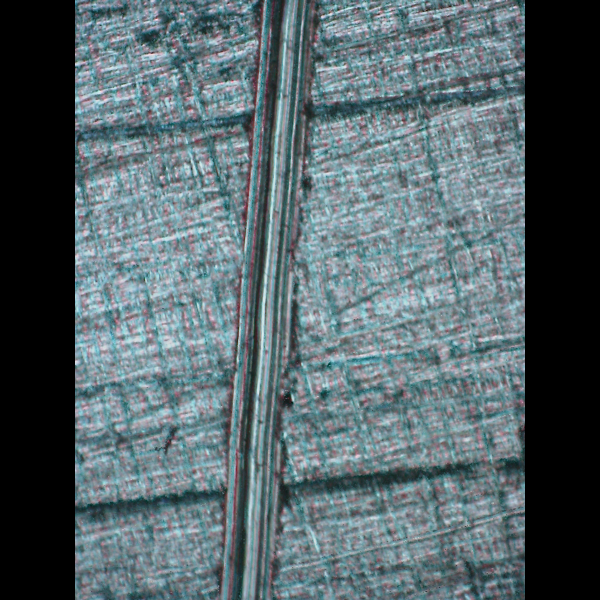d: (213, 0, 333, 597)
